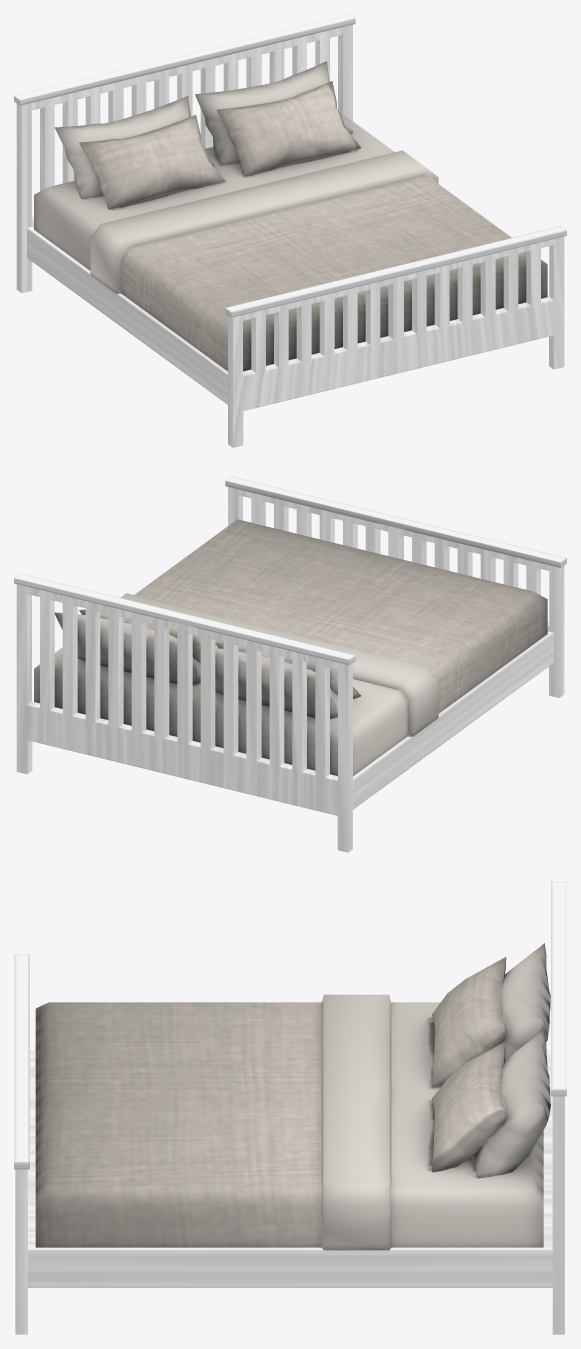
File: bed3.glb
3 renders of one model, top to bottom at view 1: azimuth 30°, elevation 25°; view 2: azimuth 150°, elevation 25°; view 3: azimuth 270°, elevation 25°, orthographic. The views are drawn at different scales.
Visible parts, largest first — view 1: Object_48; view 2: Object_48; view 3: Object_48.
Part boxes in pixels (box(x1,y1,x2,y2)): Object_48: box(14, 14, 566, 447); Object_48: box(14, 476, 566, 852); Object_48: box(14, 881, 566, 1334).
Bounding box in the file's own units: 1.5 × 0.8296 × 1.69.
Materials: 1 (1 with a texture image).
